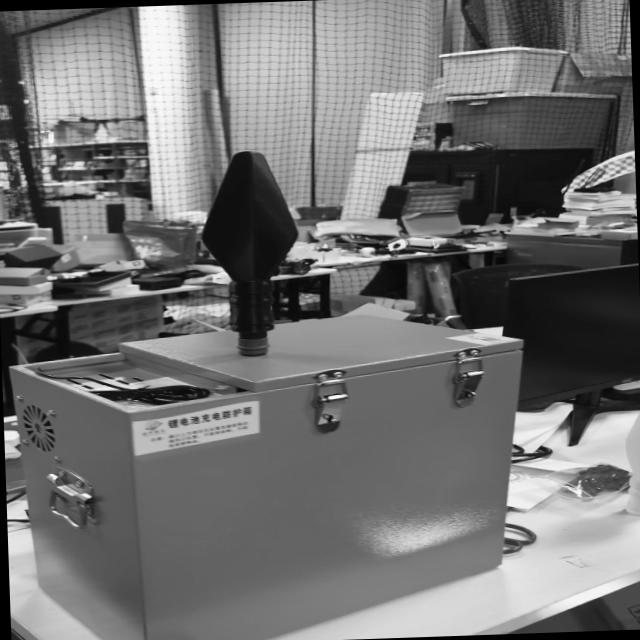base: (237, 335, 270, 356)
